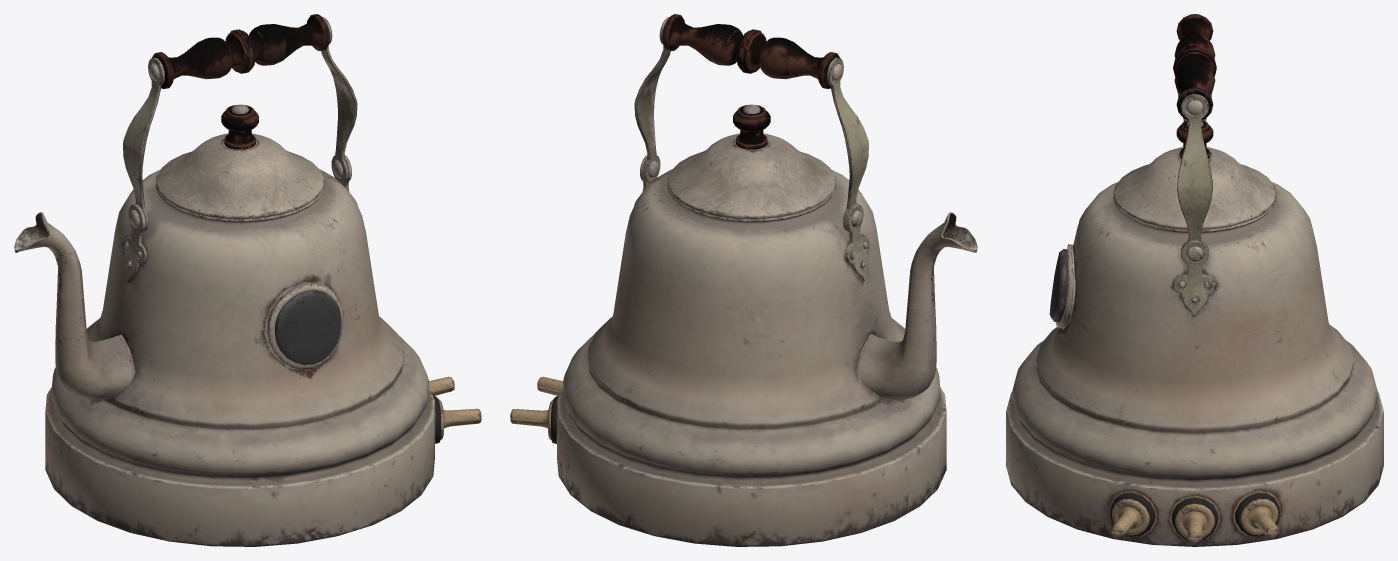
File: vintage_electric_kettle.glb
3 views of the same model, side by side, from view 1: azimuth 30°, elevation 25°; view 2: azimuth 150°, elevation 25°; view 3: azimuth 270°, elevation 25° (orthographic). The views are drawn at different scales.
Parts seen in each view (by area): view 1: vintage_electric_kettle; view 2: vintage_electric_kettle; view 3: vintage_electric_kettle.
Boxes of the visible parts, left/top/right/bottom form: vintage_electric_kettle: left=14, top=14, right=481, bottom=546; vintage_electric_kettle: left=510, top=14, right=977, bottom=546; vintage_electric_kettle: left=1006, top=14, right=1383, bottom=546.
Bounding box in the file's own units: 0.3209 × 0.3048 × 0.2486.
Materials: 2 (2 with a texture image).
